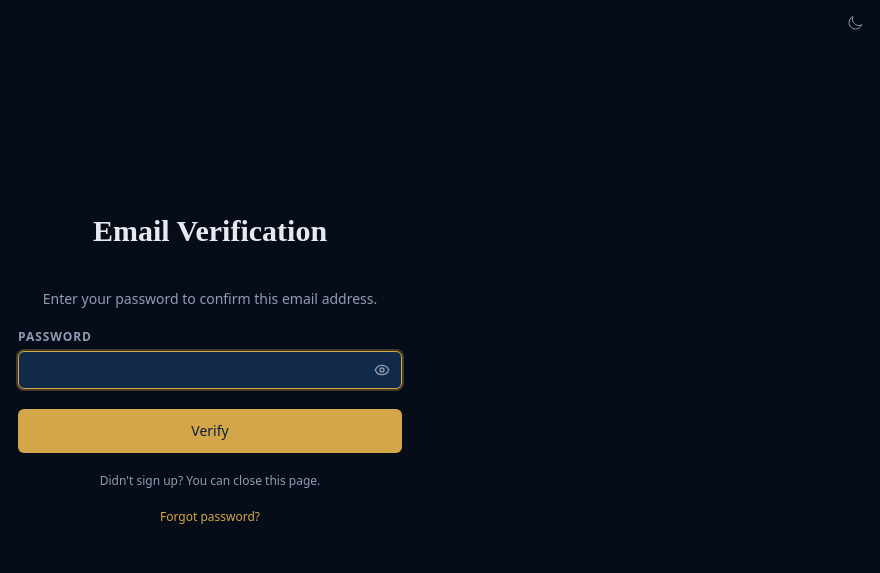
verify-email page, password confirmation › password_incorrect shows an inline alert and keeps the field
Step 1. Type "nope-nope-1" into the password field labelled "Password" → (210, 370), box [18,351,402,389]
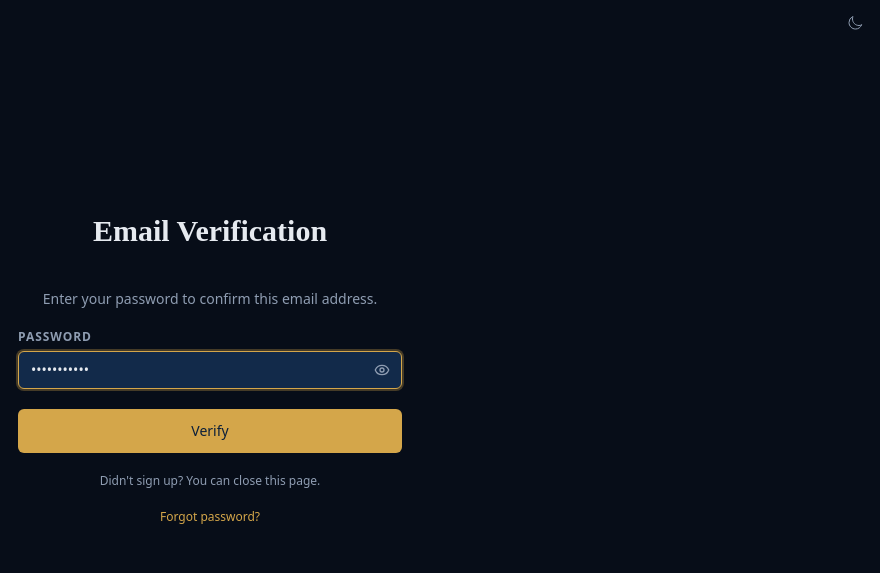
Step 2. Click the button "Verify" → (210, 431), box [18,409,402,453]
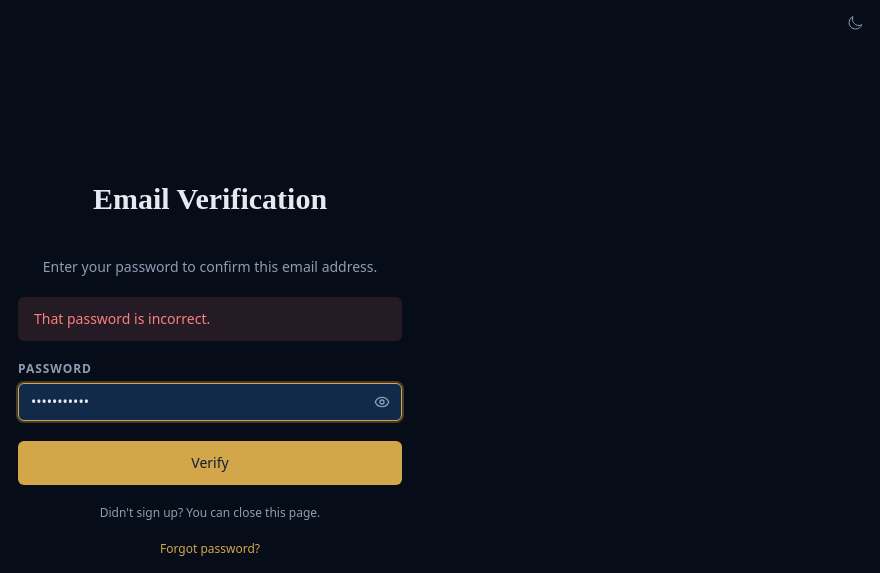
Now the message shows "incorrect", box [34,309,210,328]
